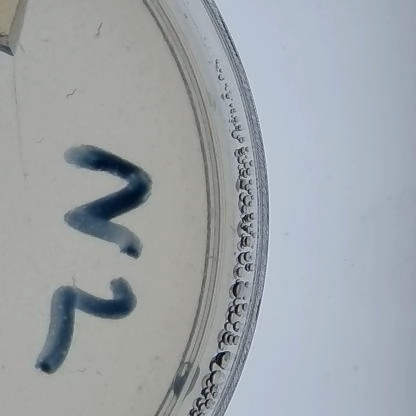worm: (59, 84, 79, 110), (92, 15, 111, 38), (71, 365, 92, 384), (32, 136, 46, 149)
